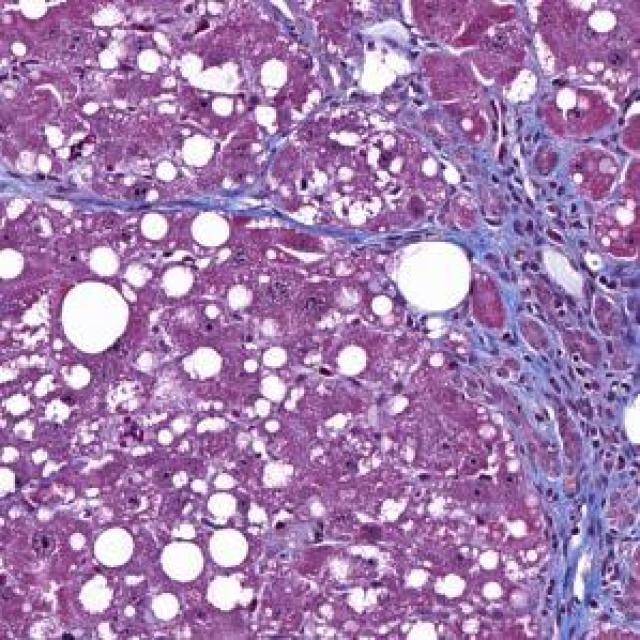fibrosis: (421, 113, 640, 314), (449, 330, 640, 560)
